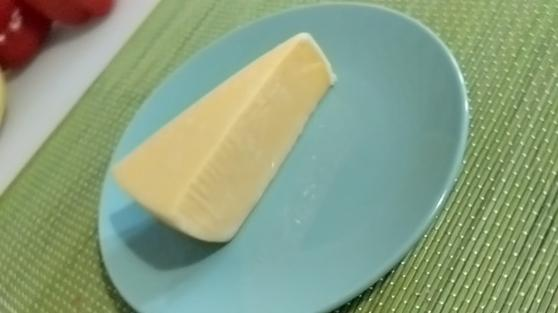cheese: (109, 31, 339, 249)
